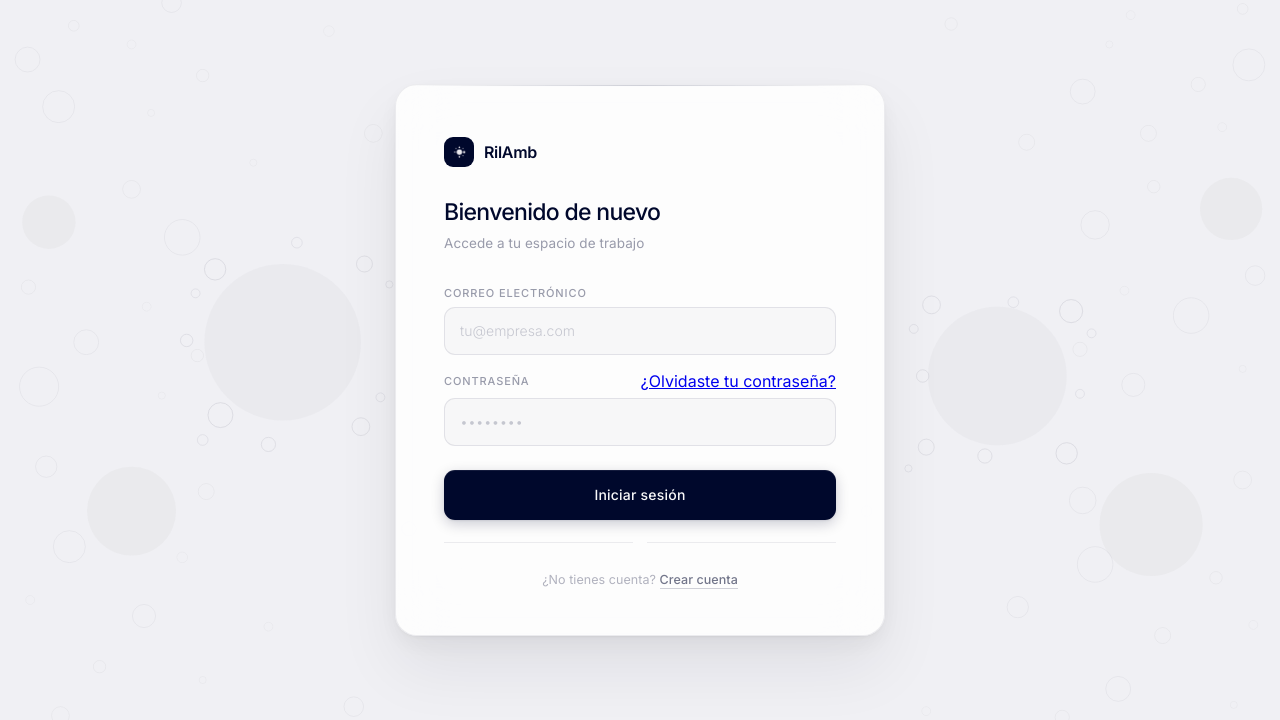
Test: Login Component › should toggle password visibility
Type "password123" into the password field labelled "Contraseña" at [640, 422], box [444,398,836,446]
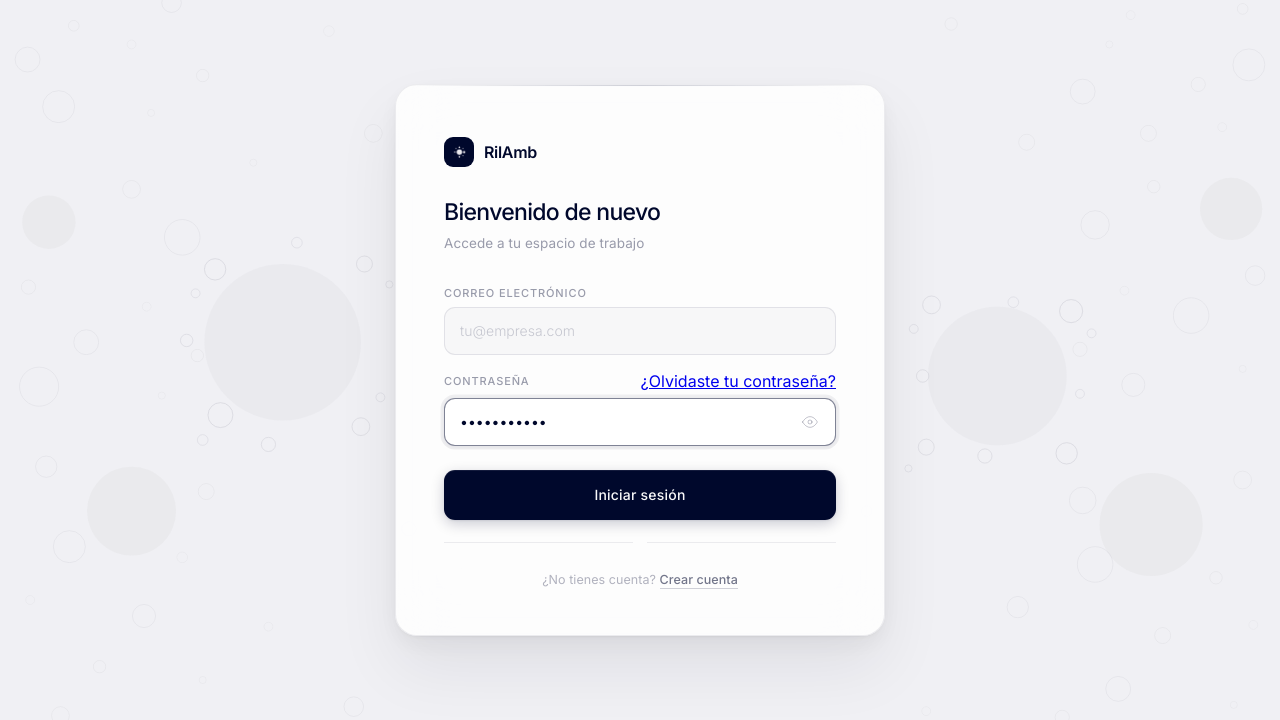
Click the button named "mostrar contraseña" at [810, 422], box [797,409,823,435]
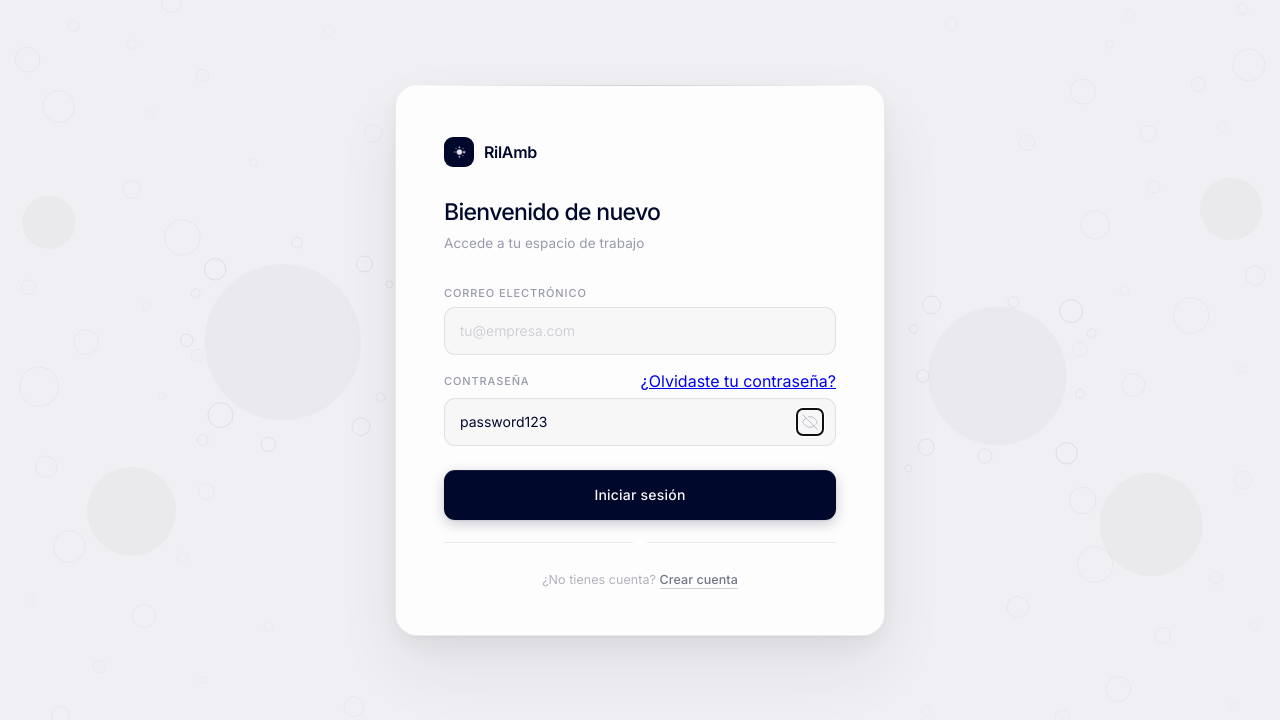
Result: the field labelled "Contraseña" shows its text at [444,398,836,446]
Result: the button named "ocultar contraseña" is shown at [797,409,823,435]
